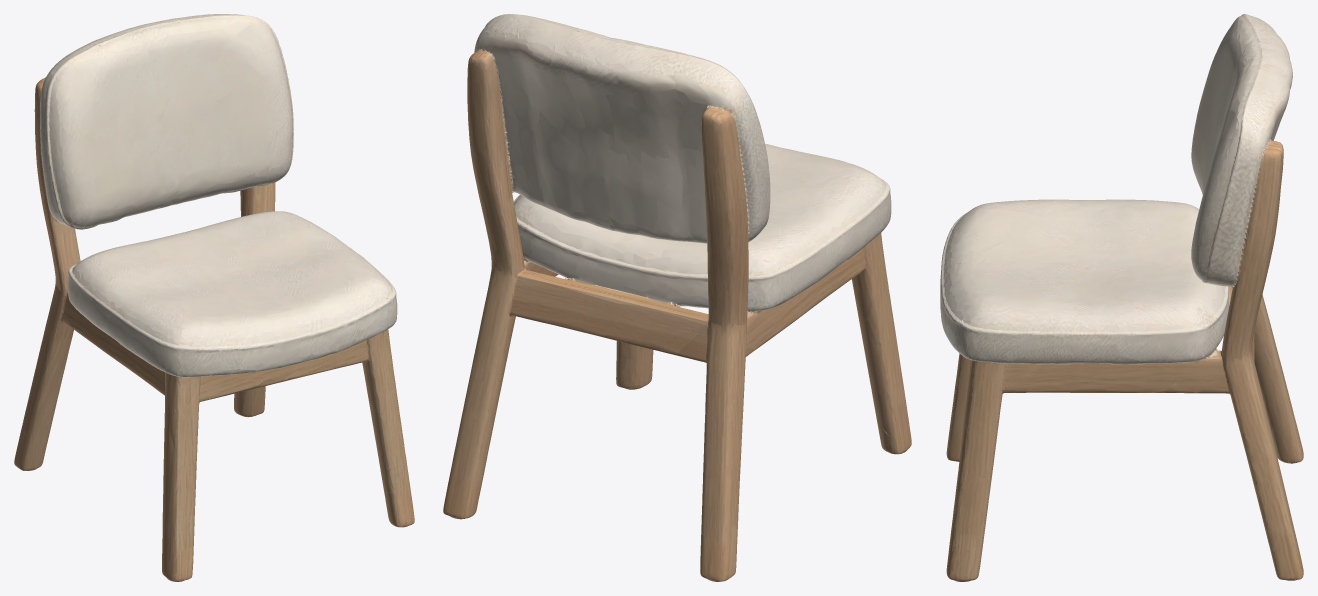
The model's file is chair.glb.
The picture shows the model from 3 angles, left to right: view 1: azimuth 30°, elevation 25°; view 2: azimuth 150°, elevation 25°; view 3: azimuth 270°, elevation 25°; orthographic projection. The views are drawn at different scales.
Bounding box in the file's own units: 1.16 × 1.9 × 1.35.
Materials: 1 (1 with a texture image).
